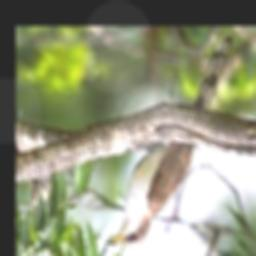Cuckoo: (104, 36, 232, 247)
